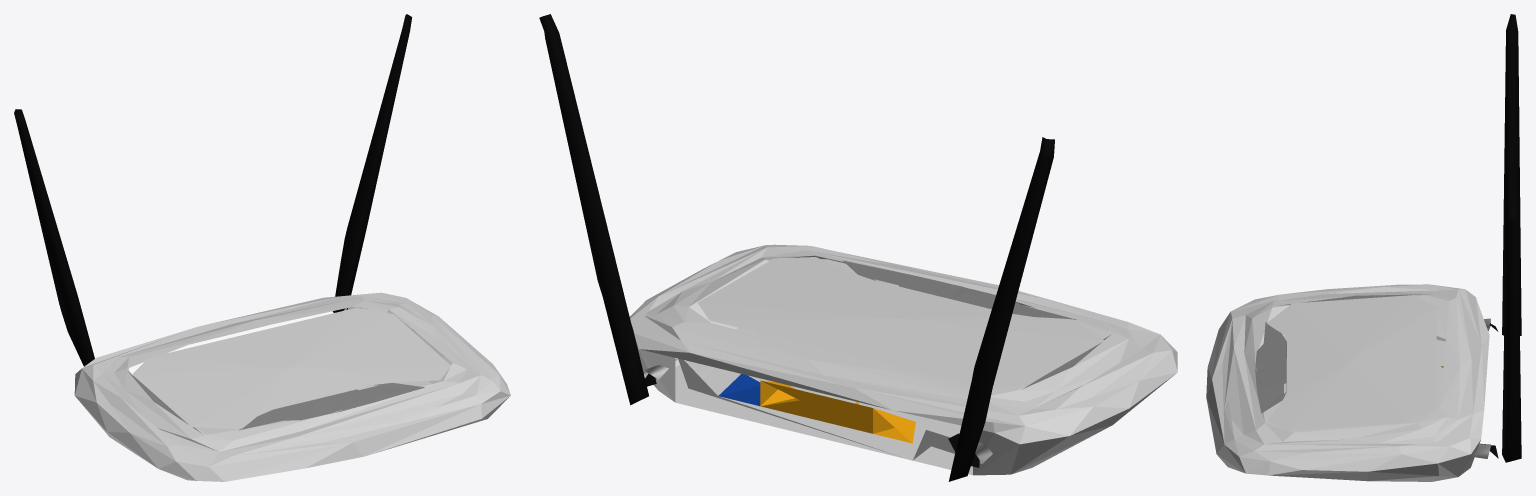
The model's file is router_simple.FBX.
The picture shows the model from 3 angles, left to right: view 1: azimuth 30°, elevation 25°; view 2: azimuth 150°, elevation 25°; view 3: azimuth 270°, elevation 25°; orthographic projection. The views are drawn at different scales.
Parts seen in each view (by area): view 1: Obj3d66-492091-3-255, Obj3d66-492091-1-843, Obj3d66-492091-2-556; view 2: Obj3d66-492091-3-255, Obj3d66-492091-1-843, Obj3d66-492091-2-556; view 3: Obj3d66-492091-3-255, Obj3d66-492091-1-843, Obj3d66-492091-2-556.
Part boxes in pixels (<box>): Obj3d66-492091-3-255: <box>74,292,510,481</box>; Obj3d66-492091-1-843: <box>333,14,412,312</box>; Obj3d66-492091-2-556: <box>14,109,94,366</box>; Obj3d66-492091-3-255: <box>629,244,1177,475</box>; Obj3d66-492091-1-843: <box>539,14,677,405</box>; Obj3d66-492091-2-556: <box>948,137,1054,481</box>; Obj3d66-492091-3-255: <box>1206,284,1489,481</box>; Obj3d66-492091-1-843: <box>1472,205,1521,462</box>; Obj3d66-492091-2-556: <box>1484,14,1521,335</box>.
Size of the model in its own units: 8.65 by 6.15 by 5.85.
